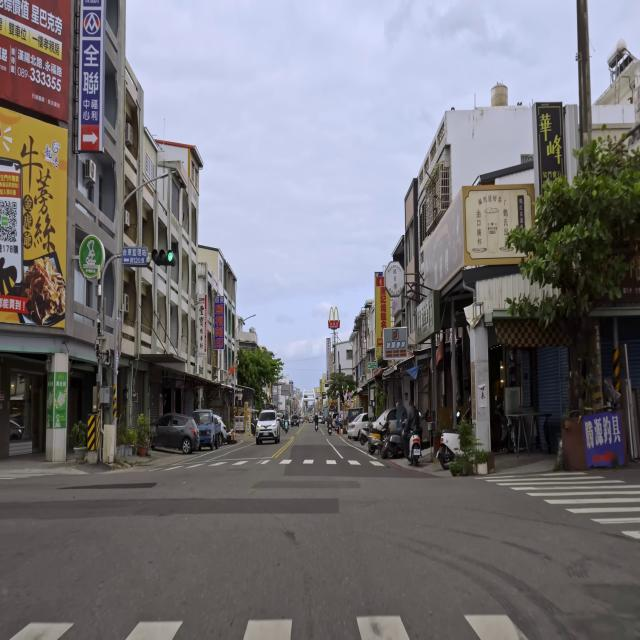green light: (151, 247, 176, 268)
